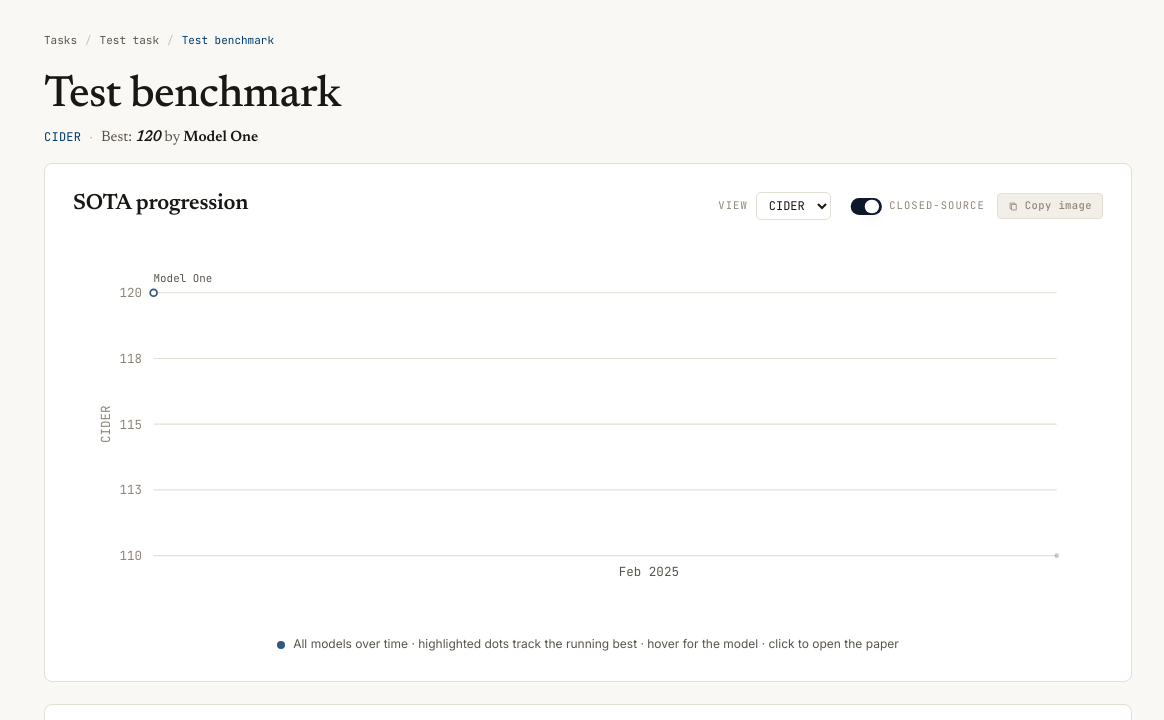
Test: BenchmarkDetailView metric deep links › writes metric selection to the URL without dropping other parameters
Select "R@1" in the dropdown labelled "View". click: [793, 206]
box: x1=756 y1=192 x2=831 y2=220
(page scrolled)
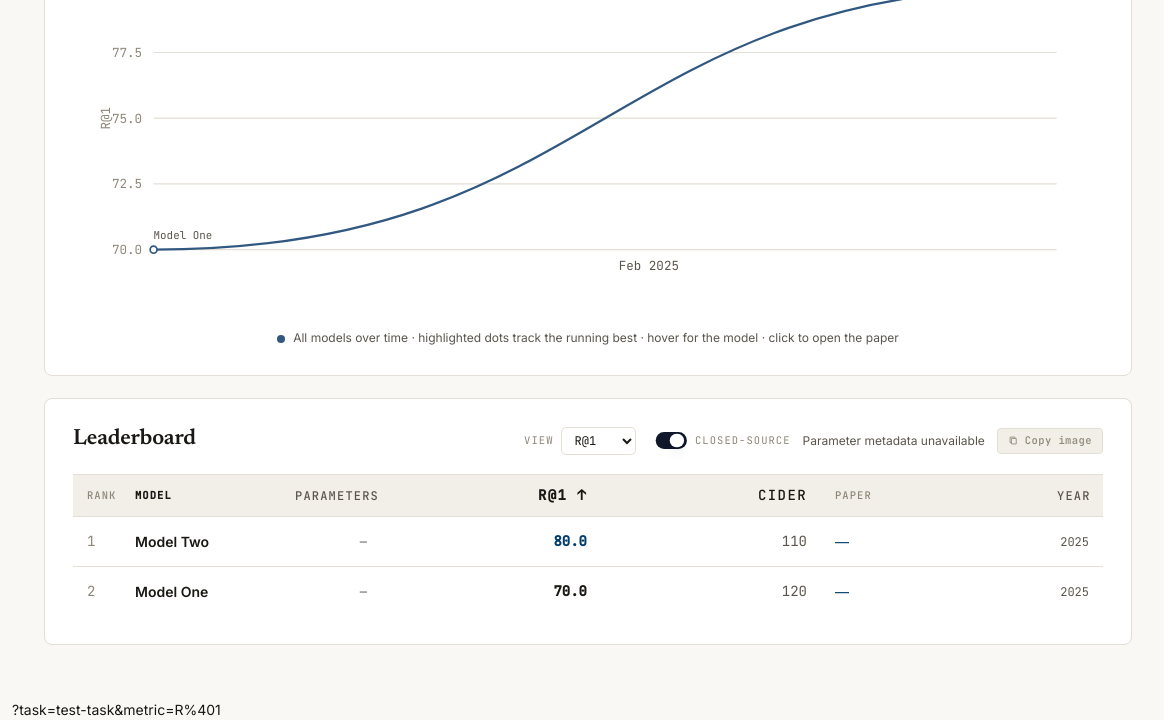
Expected: the text with test id "location" reads "?task=test-task&metric=R%401", x1=12 y1=701 x2=221 y2=718
